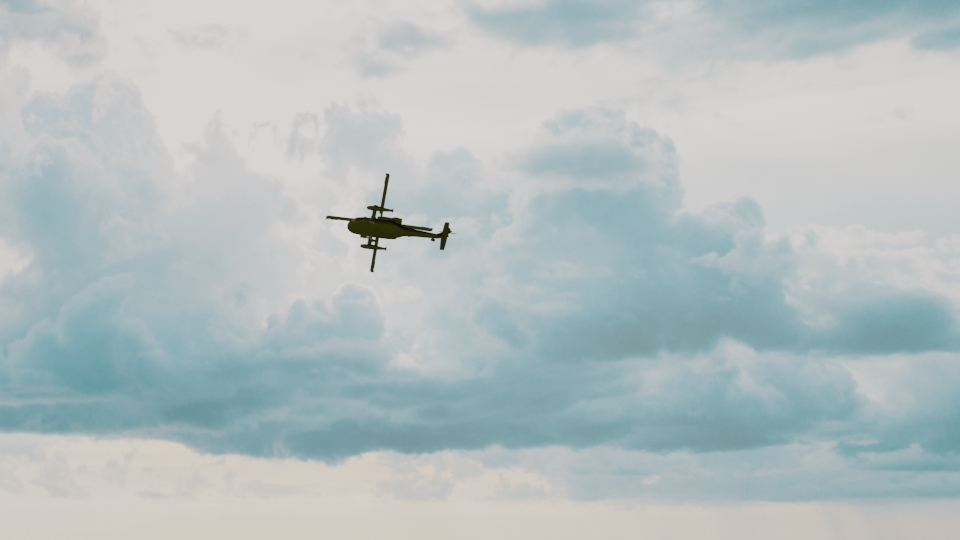heli: (322, 170, 454, 269)
